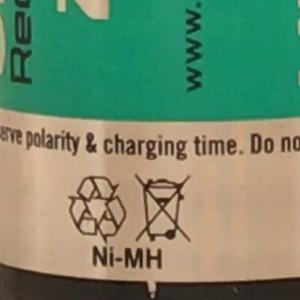NI-MH: (83, 238, 172, 277)
